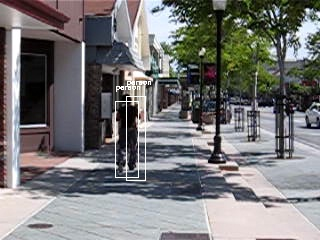person: (116, 95, 141, 173), (115, 95, 140, 173), (117, 95, 142, 173), (116, 94, 141, 172), (116, 96, 141, 174)
target_negative: (44, 78, 242, 201), (220, 83, 272, 204), (88, 194, 241, 233), (181, 14, 253, 49), (227, 35, 256, 55), (203, 188, 207, 202)
